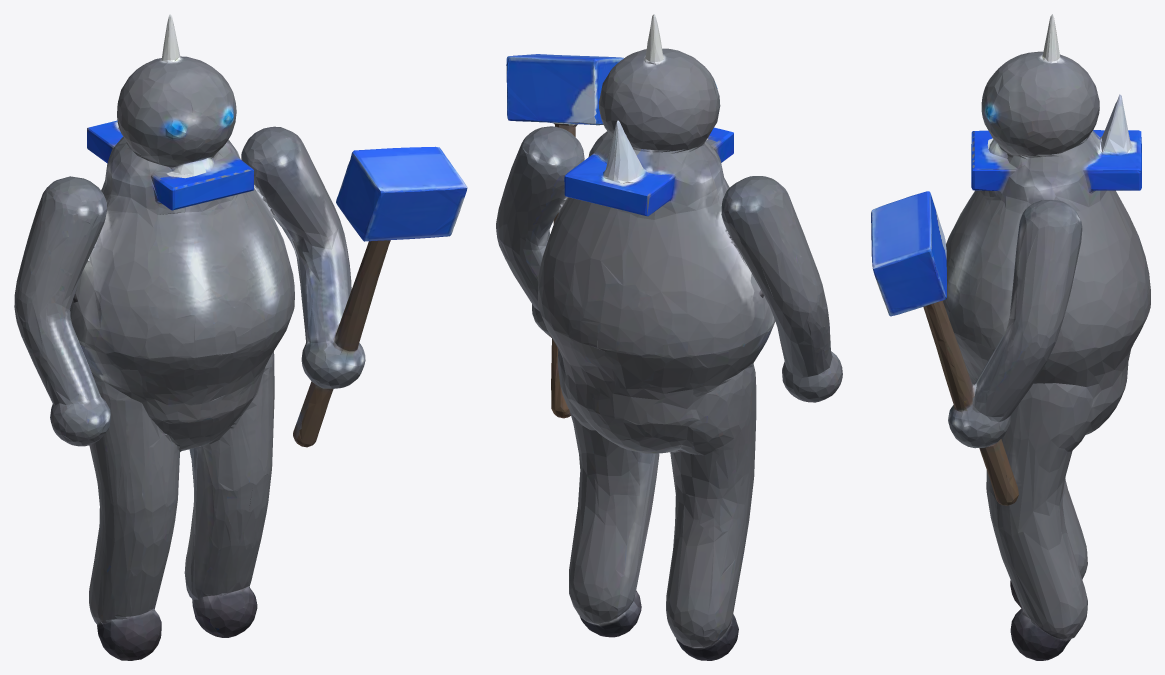
Rendered from creature-058.lod.glb.
3 views of the same model, side by side, from view 1: azimuth 30°, elevation 25°; view 2: azimuth 150°, elevation 25°; view 3: azimuth 270°, elevation 25° (orthographic). The views are drawn at different scales.
Visible parts, largest first — view 1: tmp2wdkq8h8.ply; view 2: tmp2wdkq8h8.ply; view 3: tmp2wdkq8h8.ply.
Boxes of the visible parts, x1,y1,x2,y2 form: tmp2wdkq8h8.ply: [14, 14, 467, 660]; tmp2wdkq8h8.ply: [496, 14, 842, 660]; tmp2wdkq8h8.ply: [871, 14, 1150, 660].
Size of the model in its own units: 1.22 by 1.99 by 0.8145.
1 material, 1 textured.
